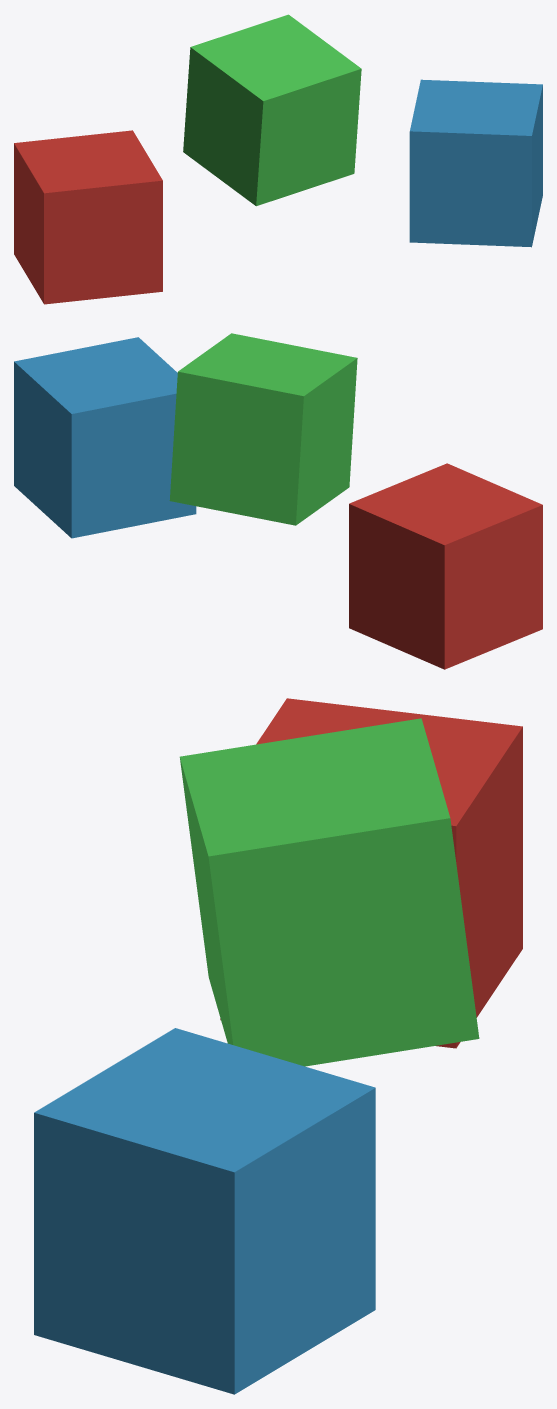
3 views of the same model, one above another, from view 1: azimuth 30°, elevation 25°; view 2: azimuth 150°, elevation 25°; view 3: azimuth 270°, elevation 25° (orthographic). The views are drawn at different scales.
Parts seen in each view (by area): view 1: GreenCube, RedCube, BlueCube; view 2: RedCube, GreenCube, BlueCube; view 3: BlueCube, GreenCube, RedCube.
Boxes of the visible parts, left/top/right/bottom form: GreenCube: left=183, top=14, right=361, bottom=206; RedCube: left=14, top=130, right=162, bottom=304; BlueCube: left=409, top=79, right=542, bottom=247; RedCube: left=349, top=463, right=542, bottom=669; GreenCube: left=169, top=333, right=357, bottom=525; BlueCube: left=14, top=337, right=196, bottom=538; BlueCube: left=34, top=1028, right=375, bottom=1394; GreenCube: left=179, top=718, right=479, bottom=1066; RedCube: left=220, top=698, right=522, bottom=1048.
Bounding box in the file's own units: 3.66 × 1.37 × 1.59.
